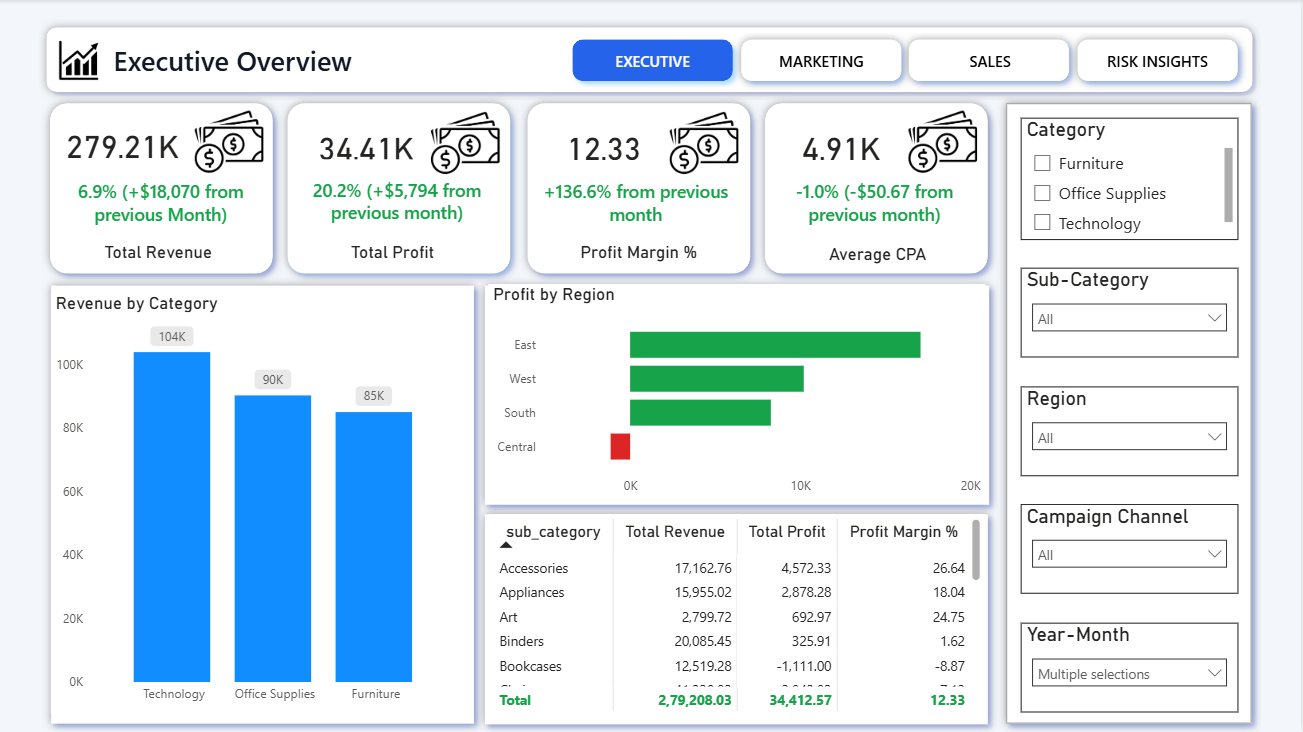

The dashboard page shown, as its layout file describes it:
{"tool":"powerbi","page":{"name":"Executive Overview","canvas":[1280,720],"ordinal":0},"visuals":[{"type":"shape","box":[40.5,20,1200,79.8],"z":0},{"type":"shape","box":[42.9,93.3,236.8,185.3],"z":0,"group":"g2"},{"type":"shape","box":[276.1,93.3,236.8,185.3],"z":0,"group":"g3"},{"type":"shape","box":[981.6,93.3,258.9,627],"z":0,"group":"g1"},{"type":"shape","box":[469.9,496.9,511.7,224],"z":0,"group":"g6"},{"type":"image","box":[40.5,38,58.9,44.2],"z":1000},{"type":"card","fields":{"Values":["sales_marketing_bi sales_cleaned.Total Revenue"]},"box":[42.9,115.4,160.7,57.7],"z":1000,"group":"g2"},{"type":"card","fields":{"Values":["DateTable.Profit Change Text (MoM)"]},"box":[292.9,160.8,203.7,74.8],"z":1000,"group":"g3"},{"type":"tableEx","fields":{"Values":["sales_marketing_bi sales_cleaned.sub_category","sales_marketing_bi sales_cleaned.Total Revenue","sales_marketing_bi sales_cleaned.Total Profit","sales_marketing_bi sales_cleaned.Profit Margin %"]},"box":[482.2,505.5,488.3,198.8],"z":1000,"group":"g6"},{"type":"slicer","title":"Year-Month","fields":{"Values":["DateTable.Year-Month"]},"box":[1004.9,612.3,213.5,88.3],"z":1000,"group":"g1"},{"type":"shape","box":[555.8,30.7,175.5,58.9],"z":2000},{"type":"shape","box":[511.7,93.3,236.8,185.3],"z":2000,"group":"g4"},{"type":"card","fields":{"Values":["sales_marketing_bi sales_cleaned.Total Profit"]},"box":[278.1,116.6,168.1,57.7],"z":2000,"group":"g3"},{"type":"slicer","title":"Category","fields":{"Values":["sales_marketing_bi sales_cleaned.category"]},"box":[1004.9,116.6,213.5,120.2],"z":2000,"group":"g1"},{"type":"card","fields":{"Values":["DateTable.Revenue Change Text"]},"box":[61.4,161.6,203.7,75],"z":2000,"group":"g2"},{"type":"shape","box":[721.1,30.7,175.5,58.9],"z":3000},{"type":"shape","box":[744.8,93.3,236.8,185.3],"z":3000,"group":"g5"},{"type":"image","box":[421.7,109.3,74.8,65],"z":3000,"group":"g3"},{"type":"textbox","box":[88.4,233.2,139.9,31.9],"z":3000,"group":"g2"},{"type":"slicer","title":"Region","fields":{"Values":["sales_marketing_bi sales_cleaned.region"]},"box":[1004.9,380.4,213.5,88.3],"z":3000,"group":"g1"},{"type":"shape","box":[886.3,30.7,175.5,58.9],"z":4000},{"type":"image","box":[190.1,108,74.8,65],"z":4000,"group":"g2"},{"type":"textbox","box":[333.6,233.2,109.2,31.9],"z":4000,"group":"g3"},{"type":"shape","box":[44.2,272.4,433,447.9],"z":4000,"group":"g7"},{"type":"slicer","title":"Campaign Channel","fields":{"Values":["sales_marketing_bi marketing_cleaned.campaign_channel"]},"box":[1004.9,496.4,213.5,88.3],"z":4000,"group":"g1"},{"type":"shape","box":[1051.5,30.7,175.5,58.9],"z":5000},{"type":"slicer","title":"Sub-Category","fields":{"Values":["sales_marketing_bi sales_cleaned.sub_category"]},"box":[1004.9,264.5,213.5,88.3],"z":5000,"group":"g1"},{"type":"clusteredColumnChart","title":"Revenue by Category","fields":{"Category":["sales_marketing_bi sales_cleaned.category"],"Y":["sales_marketing_bi sales_cleaned.Total Revenue"]},"box":[52.8,288.4,403.7,412.3],"z":5000,"group":"g7"},{"type":"group","id":"g1","title":"Group 2","box":[981.6,93.3,258.9,627],"z":6000},{"type":"card","fields":{"Values":["DateTable.Profit Margin Change Text (MoM)"]},"box":[528.1,162,203.7,74.8],"z":6000,"group":"g4"},{"type":"group","id":"g2","title":"Group 3","box":[42.9,93.3,236.8,185.3],"z":7000},{"type":"image","box":[656.9,109.3,74.8,65],"z":7000,"group":"g4"},{"type":"group","id":"g3","title":"Group 4","box":[276.1,93.3,236.8,185.3],"z":8000},{"type":"shape","box":[469.9,272.4,512.9,233],"z":8000,"group":"g8"},{"type":"actionButton","title":"Marketing ","box":[566.1,41.7,155.8,40.5],"z":9000},{"type":"textbox","box":[563.6,233.2,133.7,31.9],"z":9000,"group":"g4"},{"type":"actionButton","title":"Marketing ","box":[731.3,41.7,155.8,40.5],"z":10000},{"type":"clusteredBarChart","title":"Profit by Region","fields":{"Category":["sales_marketing_bi sales_cleaned.region"],"Y":["sales_marketing_bi sales_cleaned.Total Profit"]},"box":[482.2,279.8,488.3,216],"z":10000,"group":"g8"},{"type":"actionButton","title":"Marketing ","box":[896.5,41.7,155.8,40.5],"z":11000},{"type":"card","fields":{"Values":["sales_marketing_bi sales_cleaned.Profit Margin %"]},"box":[512.1,116.6,168.1,58.9],"z":11000,"group":"g4"},{"type":"actionButton","title":"Marketing ","box":[1061.8,41.7,155.8,40.5],"z":12000},{"type":"card","fields":{"Values":["DateTable.CPA Change Text (MoM)"]},"box":[762,162,203.7,74.8],"z":12000,"group":"g5"},{"type":"group","id":"g4","title":"Group 1","box":[511.7,93.3,236.8,185.3],"z":13000},{"type":"image","box":[890.8,108,74.8,65],"z":13000,"group":"g5"},{"type":"group","id":"g5","title":"Group 5","box":[744.8,93.3,236.8,185.3],"z":14000},{"type":"card","fields":{"Values":["sales_marketing_bi marketing_cleaned.Average CPA"]},"box":[744.8,116.6,168.1,58.9],"z":14000,"group":"g5"},{"type":"textbox","box":[797.6,235.6,133.7,31.9],"z":15000,"group":"g5"},{"type":"group","id":"g6","title":"Group 7","box":[469.9,272.4,512.9,448.5],"z":15000},{"type":"group","id":"g7","title":"Group 8","box":[44.2,272.4,433,447.9],"z":16000},{"type":"group","id":"g8","title":"Group 6","box":[469.9,272.4,512.9,233],"z":27003,"group":"g6"}]}

Visuals, with their boxes in screenshot pixels (x1, y1, x2, y2), scaled from the page's 1280x720 canvas onto the 1303x732 screenshot:
shape: (left=41, top=20, right=1263, bottom=101)
shape: (left=44, top=95, right=285, bottom=283)
shape: (left=281, top=95, right=522, bottom=283)
shape: (left=999, top=95, right=1263, bottom=731)
shape: (left=478, top=505, right=999, bottom=731)
image: (left=41, top=39, right=101, bottom=84)
card - sales_marketing_bi sales_cleaned.Total Revenue: (left=44, top=117, right=207, bottom=176)
card - DateTable.Profit Change Text (MoM): (left=298, top=163, right=506, bottom=240)
tableEx - sales_marketing_bi sales_cleaned.sub_category x sales_marketing_bi sales_cleaned.Total Revenue: (left=491, top=514, right=988, bottom=716)
"Year-Month" slicer: (left=1023, top=623, right=1240, bottom=712)
shape: (left=566, top=31, right=744, bottom=91)
shape: (left=521, top=95, right=762, bottom=283)
card - sales_marketing_bi sales_cleaned.Total Profit: (left=283, top=119, right=454, bottom=177)
"Category" slicer: (left=1023, top=119, right=1240, bottom=241)
card - DateTable.Revenue Change Text: (left=63, top=164, right=270, bottom=241)
shape: (left=734, top=31, right=913, bottom=91)
shape: (left=758, top=95, right=999, bottom=283)
image: (left=429, top=111, right=505, bottom=177)
textbox: (left=90, top=237, right=232, bottom=270)
"Region" slicer: (left=1023, top=387, right=1240, bottom=477)
shape: (left=902, top=31, right=1081, bottom=91)
image: (left=194, top=110, right=270, bottom=176)
textbox: (left=340, top=237, right=451, bottom=270)
shape: (left=45, top=277, right=486, bottom=731)
"Campaign Channel" slicer: (left=1023, top=505, right=1240, bottom=594)
shape: (left=1070, top=31, right=1249, bottom=91)
"Sub-Category" slicer: (left=1023, top=269, right=1240, bottom=359)
"Revenue by Category" clusteredColumnChart: (left=54, top=293, right=465, bottom=712)
"Group 2" group: (left=999, top=95, right=1263, bottom=731)
card - DateTable.Profit Margin Change Text (MoM): (left=538, top=165, right=745, bottom=241)
"Group 3" group: (left=44, top=95, right=285, bottom=283)
image: (left=669, top=111, right=745, bottom=177)
"Group 4" group: (left=281, top=95, right=522, bottom=283)
shape: (left=478, top=277, right=1000, bottom=514)
"Marketing " actionButton: (left=576, top=42, right=735, bottom=84)
textbox: (left=574, top=237, right=710, bottom=270)
"Marketing " actionButton: (left=744, top=42, right=903, bottom=84)
"Profit by Region" clusteredBarChart: (left=491, top=284, right=988, bottom=504)
"Marketing " actionButton: (left=913, top=42, right=1071, bottom=84)
card - sales_marketing_bi sales_cleaned.Profit Margin %: (left=521, top=119, right=692, bottom=178)
"Marketing " actionButton: (left=1081, top=42, right=1239, bottom=84)
card - DateTable.CPA Change Text (MoM): (left=776, top=165, right=983, bottom=241)
"Group 1" group: (left=521, top=95, right=762, bottom=283)
image: (left=907, top=110, right=983, bottom=176)
"Group 5" group: (left=758, top=95, right=999, bottom=283)
card - sales_marketing_bi marketing_cleaned.Average CPA: (left=758, top=119, right=929, bottom=178)
textbox: (left=812, top=240, right=948, bottom=272)
"Group 7" group: (left=478, top=277, right=1000, bottom=731)
"Group 8" group: (left=45, top=277, right=486, bottom=731)
"Group 6" group: (left=478, top=277, right=1000, bottom=514)
